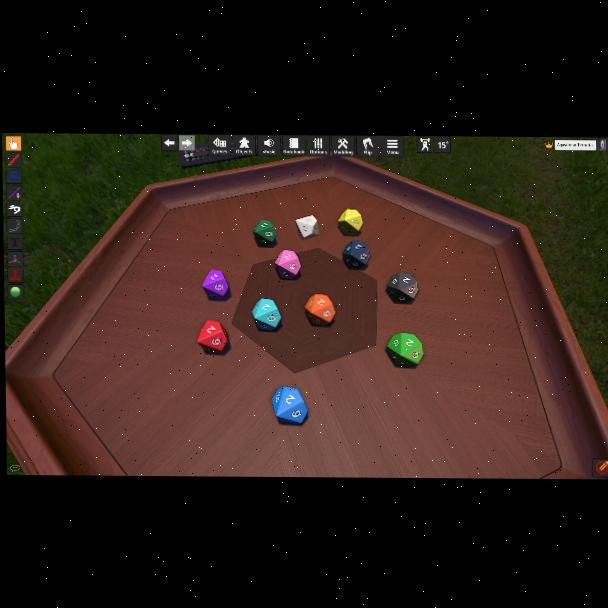d10: (272, 386, 308, 424), (385, 333, 421, 367), (304, 293, 335, 325), (198, 320, 228, 353), (252, 299, 281, 331), (386, 272, 416, 302), (201, 269, 229, 300), (342, 240, 369, 269), (275, 250, 301, 279), (338, 209, 362, 236), (254, 220, 277, 246), (295, 216, 318, 239)
